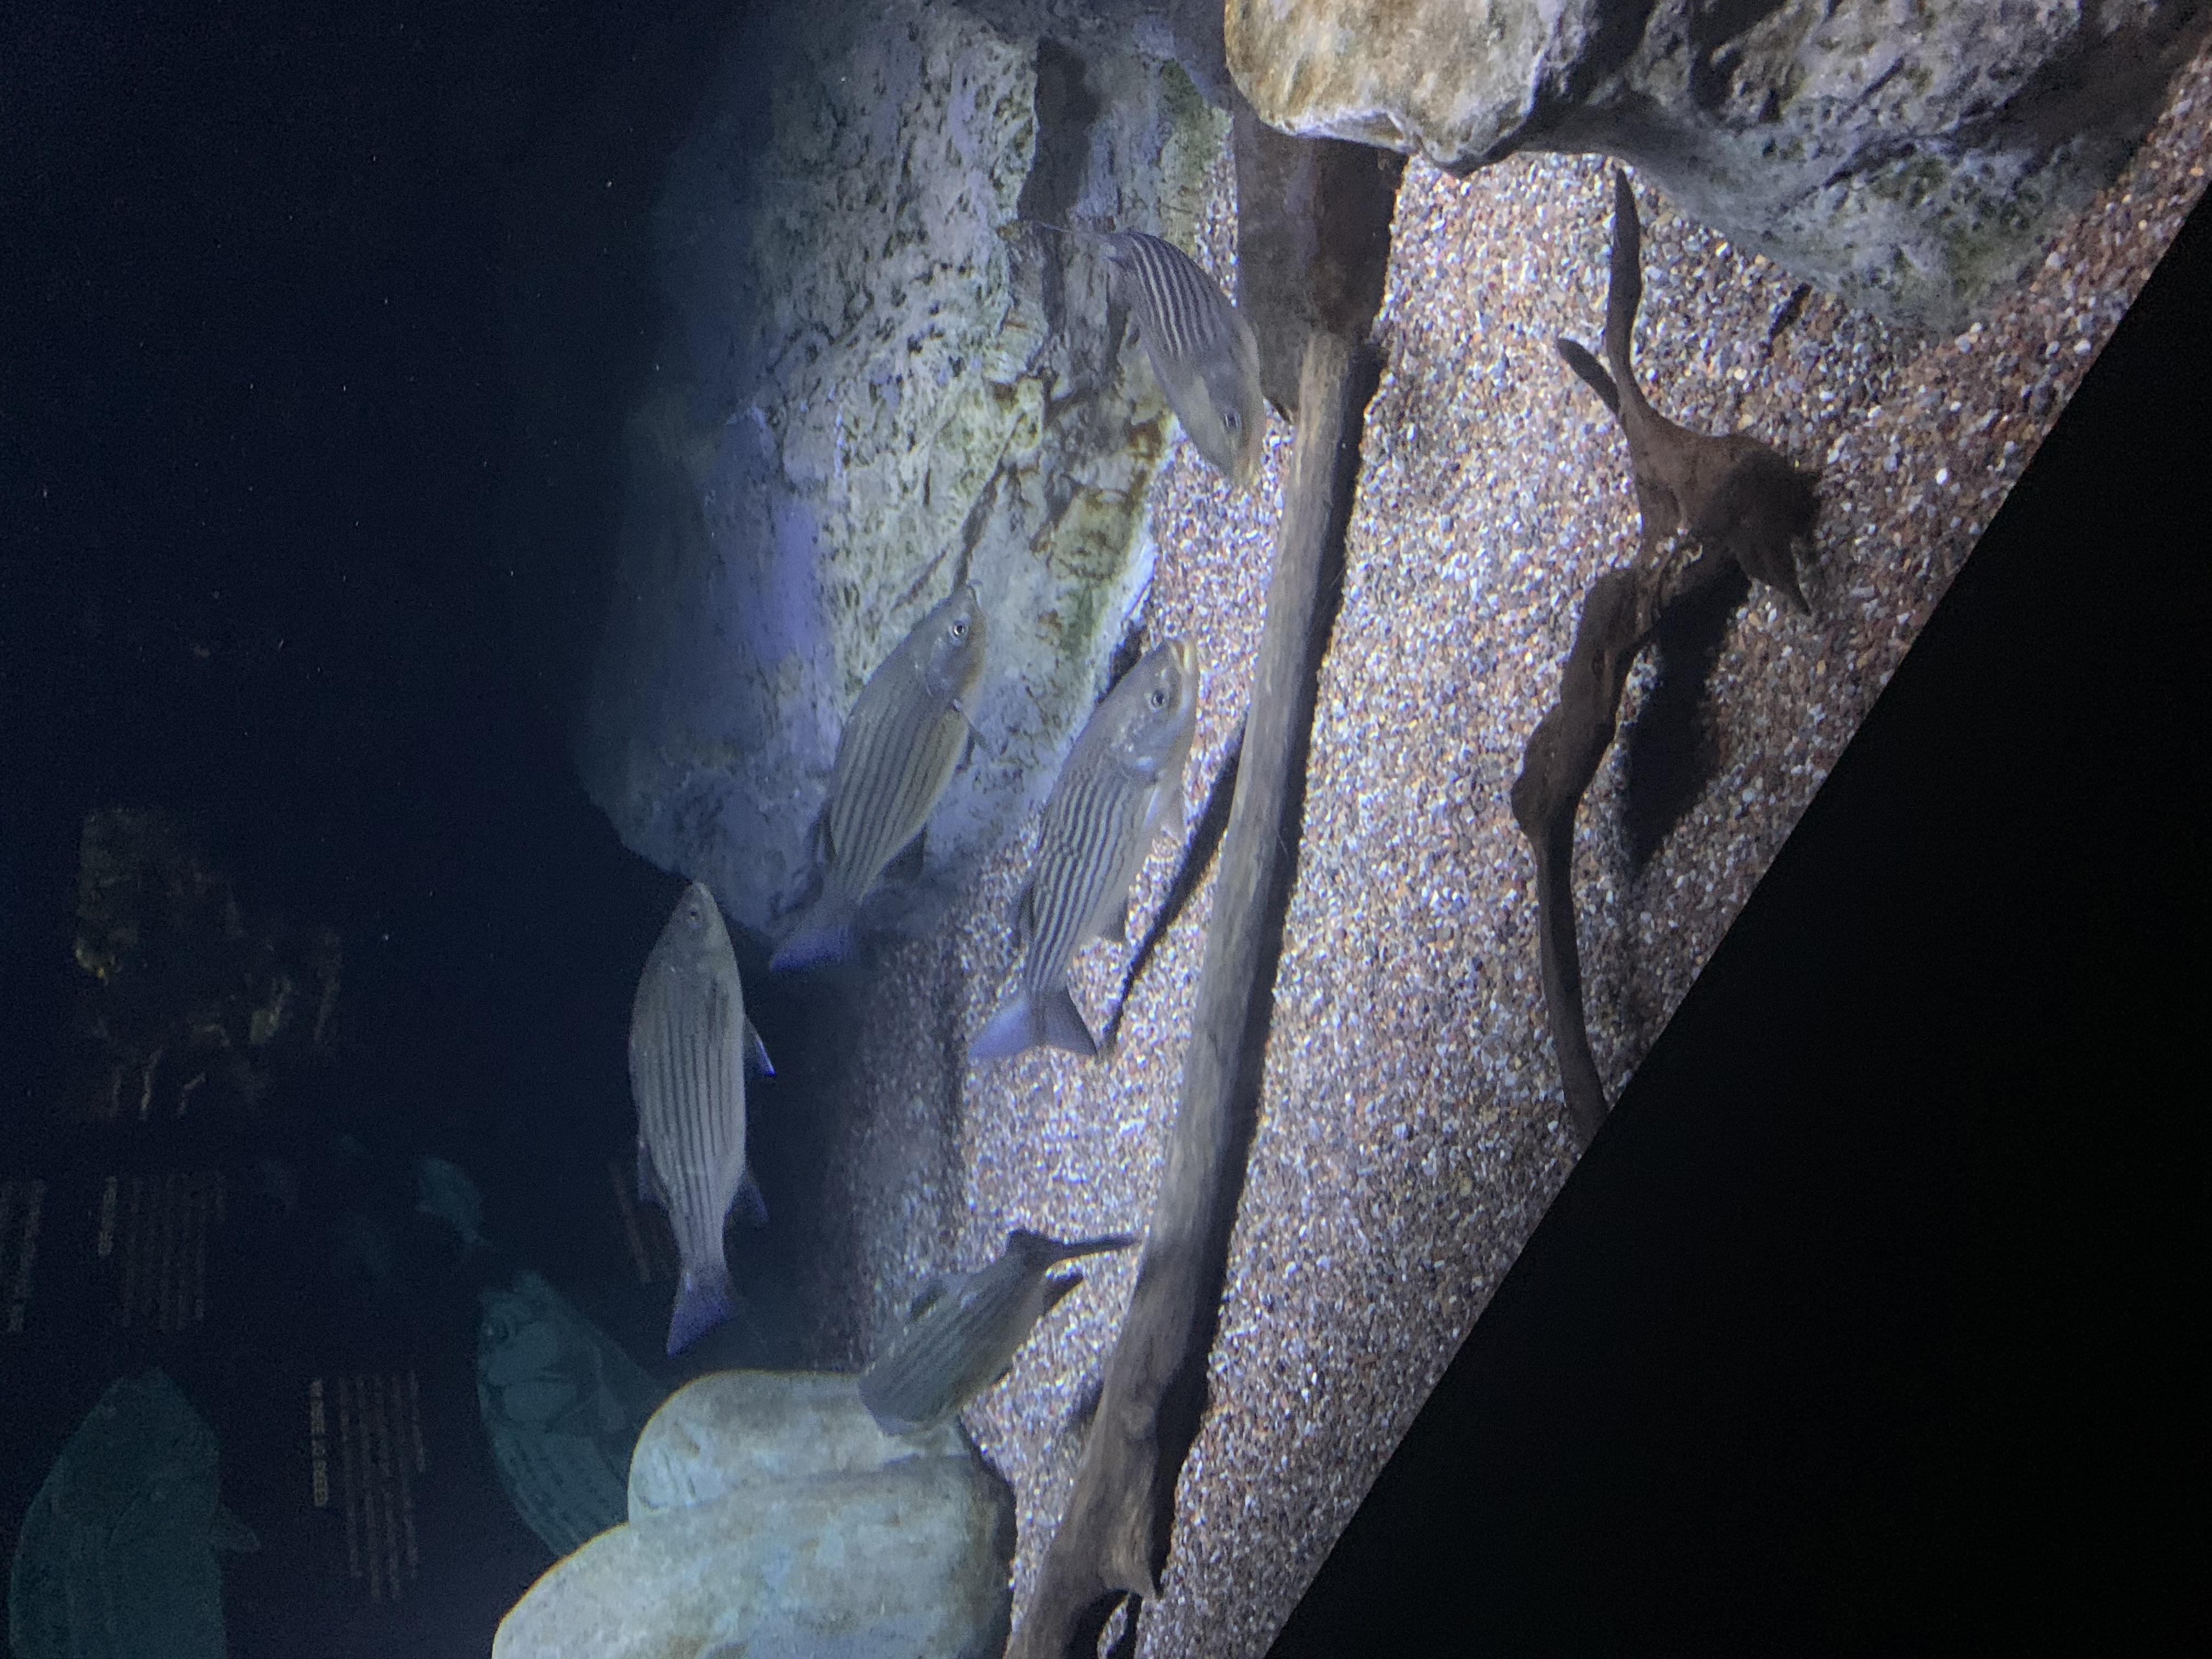fish: (968, 629, 1209, 1072), (763, 587, 986, 986), (620, 875, 775, 1361), (841, 1227, 1141, 1445), (1111, 223, 1268, 490)
